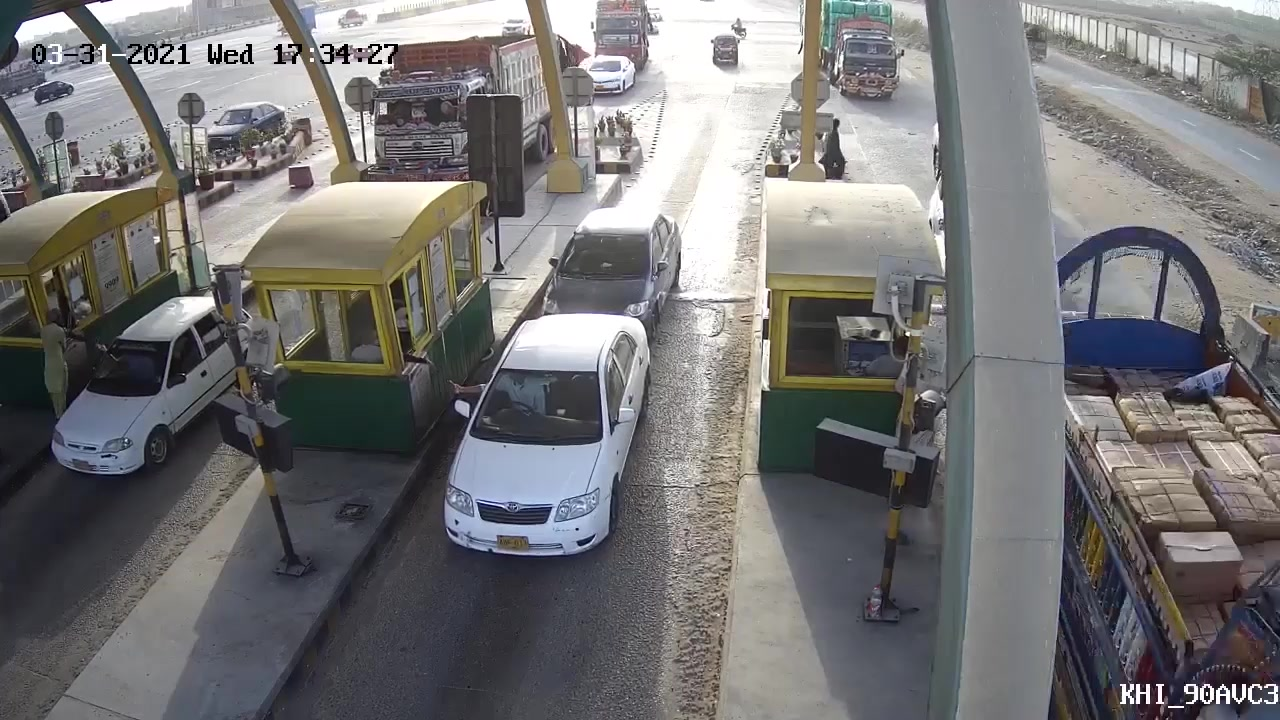F1: (452, 311, 652, 557)
